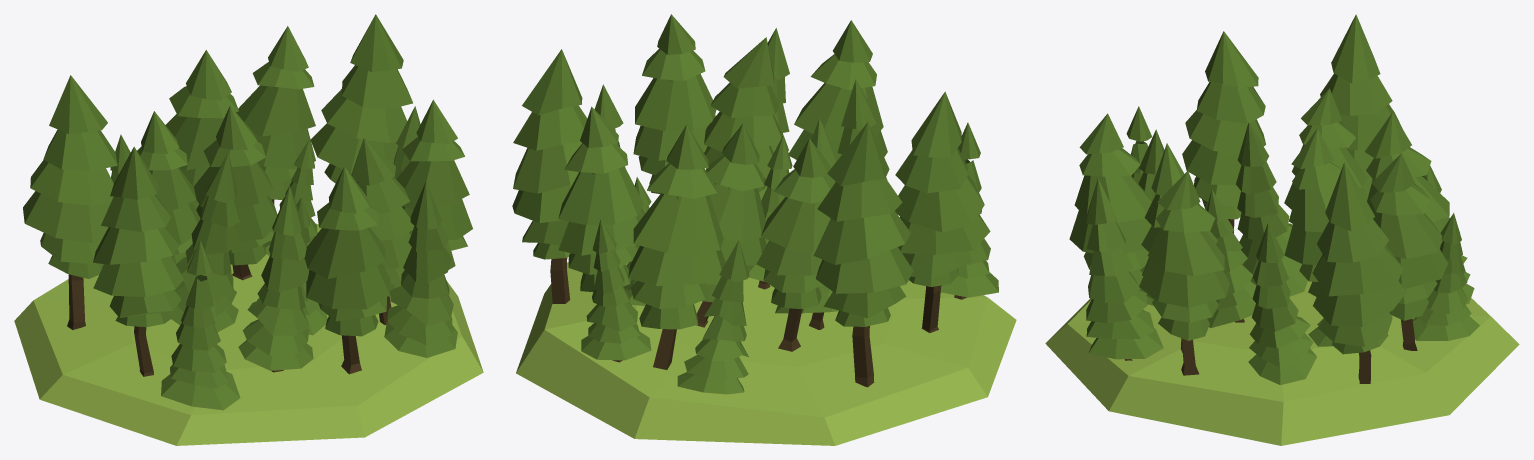
File: nested pines large.fbx
3 renders of one model, left to right at view 1: azimuth 30°, elevation 25°; view 2: azimuth 150°, elevation 25°; view 3: azimuth 270°, elevation 25°, orthographic. The views are drawn at different scales.
Parts seen in each view (by area): view 1: nested pines_LOD0; view 2: nested pines_LOD0; view 3: nested pines_LOD0.
Part boxes in pixels (x1,y1,x2,y2): nested pines_LOD0: (14,14,483,445); nested pines_LOD0: (512,14,1016,445); nested pines_LOD0: (1045,14,1519,445).
Size of what is drawn, in the model's own units: 22.58 by 14.24 by 22.83.
